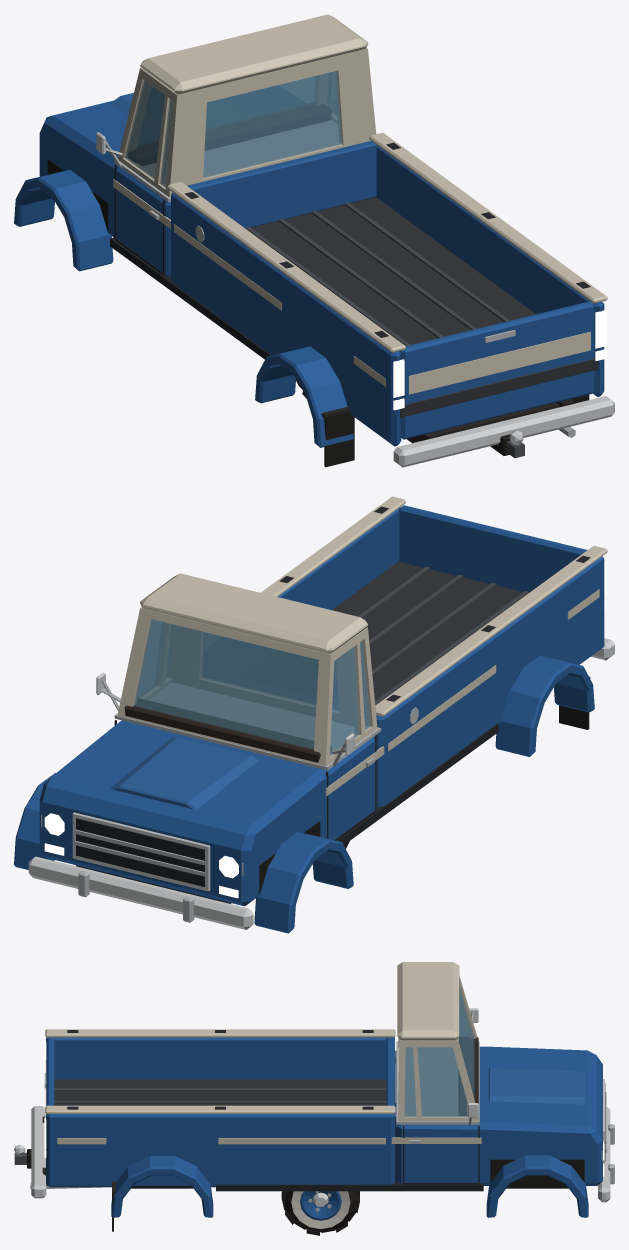
Rendered from Pickup.glb.
3 views of the same model, one above another, from view 1: azimuth 30°, elevation 25°; view 2: azimuth 150°, elevation 25°; view 3: azimuth 270°, elevation 25° (orthographic). The views are drawn at different scales.
Parts seen in each view (by area): view 1: Bed, Body, Glass, Lights, Hitch; view 2: Body, Bed, Glass, Lights; view 3: Bed, Body, Glass, Wheel.
Part boxes in pixels (x1,y1,x2,y2): Bed: (167,132,607,446); Body: (14,14,614,467); Glass: (103,71,342,187); Lights: (393,310,606,410); Hitch: (490,430,524,458); Body: (14,573,614,933); Bed: (260,496,607,806); Glass: (105,619,370,755); Lights: (44,561,606,898); Bed: (44,1029,395,1187); Body: (30,962,614,1231); Glass: (404,987,474,1116); Wheel: (281,1191,359,1235).
Size of the model in its own units: 11.11 by 11.6 by 26.86.
